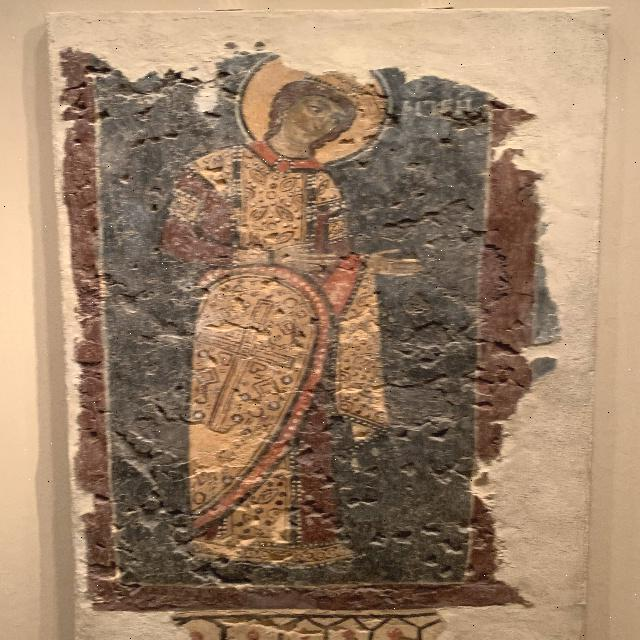aura: (242, 48, 394, 164)
shield: (183, 260, 336, 535)
st_catherine: (104, 45, 491, 608)
